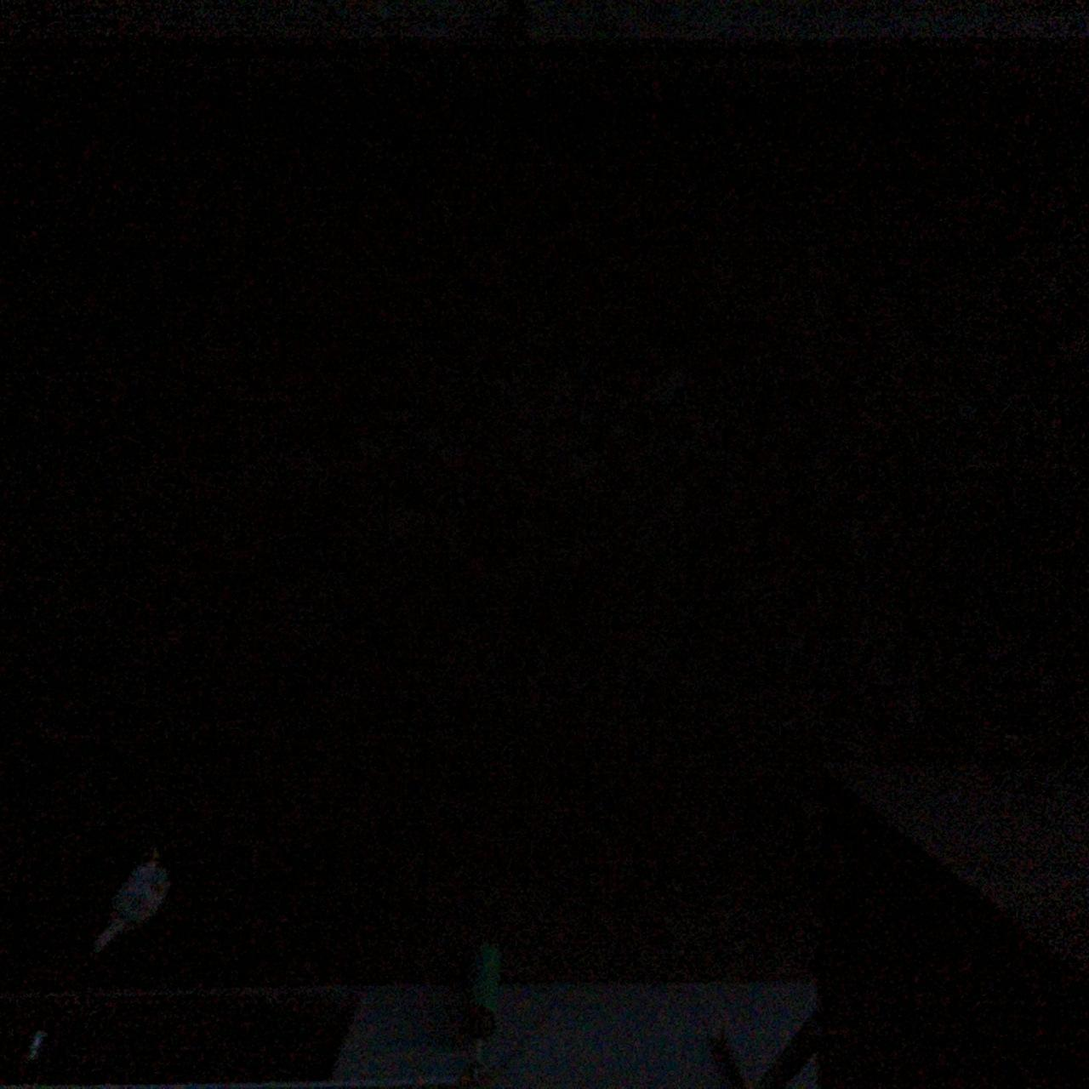chicken: (83, 844, 180, 960)
